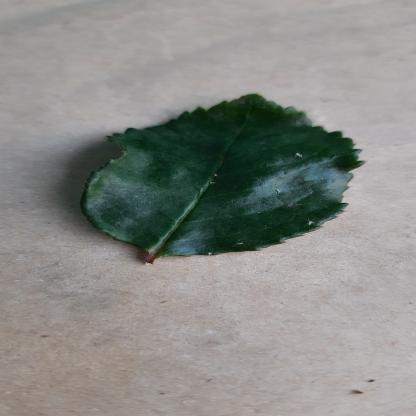normal: (81, 91, 362, 258)
